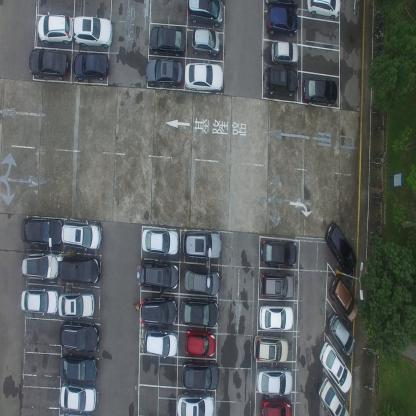car: (319, 339, 352, 394), (324, 220, 356, 275), (328, 274, 359, 322), (28, 47, 70, 81), (138, 259, 179, 292), (59, 321, 100, 354), (62, 219, 102, 252), (328, 311, 356, 358), (59, 253, 101, 284), (74, 14, 112, 48), (183, 228, 222, 261), (318, 376, 350, 416), (37, 10, 73, 45), (181, 296, 218, 330), (185, 61, 223, 94), (139, 296, 177, 328), (140, 227, 179, 258), (184, 266, 221, 298), (148, 25, 186, 56), (20, 217, 62, 245), (254, 332, 288, 366), (262, 66, 298, 98), (182, 360, 219, 391), (256, 366, 293, 396), (265, 5, 298, 38), (261, 236, 297, 266), (60, 383, 96, 413), (74, 51, 110, 81), (146, 57, 182, 87), (21, 287, 58, 316), (258, 301, 294, 330), (58, 292, 95, 320), (59, 355, 97, 382), (260, 268, 294, 298), (302, 76, 338, 104), (145, 329, 178, 359), (176, 391, 215, 416), (187, 0, 223, 27), (21, 254, 58, 280), (190, 28, 221, 59), (184, 329, 216, 359), (271, 39, 299, 67), (306, 0, 341, 18), (260, 397, 292, 415)
